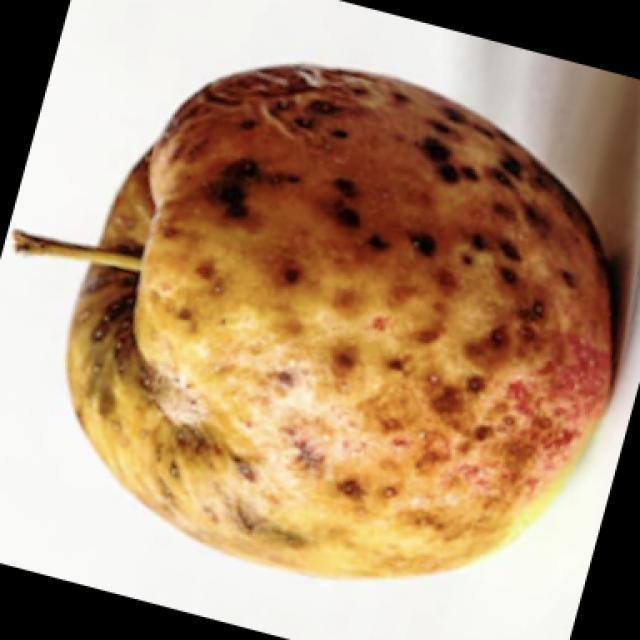Rotten: (23, 60, 625, 587)
